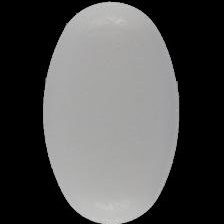51655-011: (0, 0, 224, 224)
